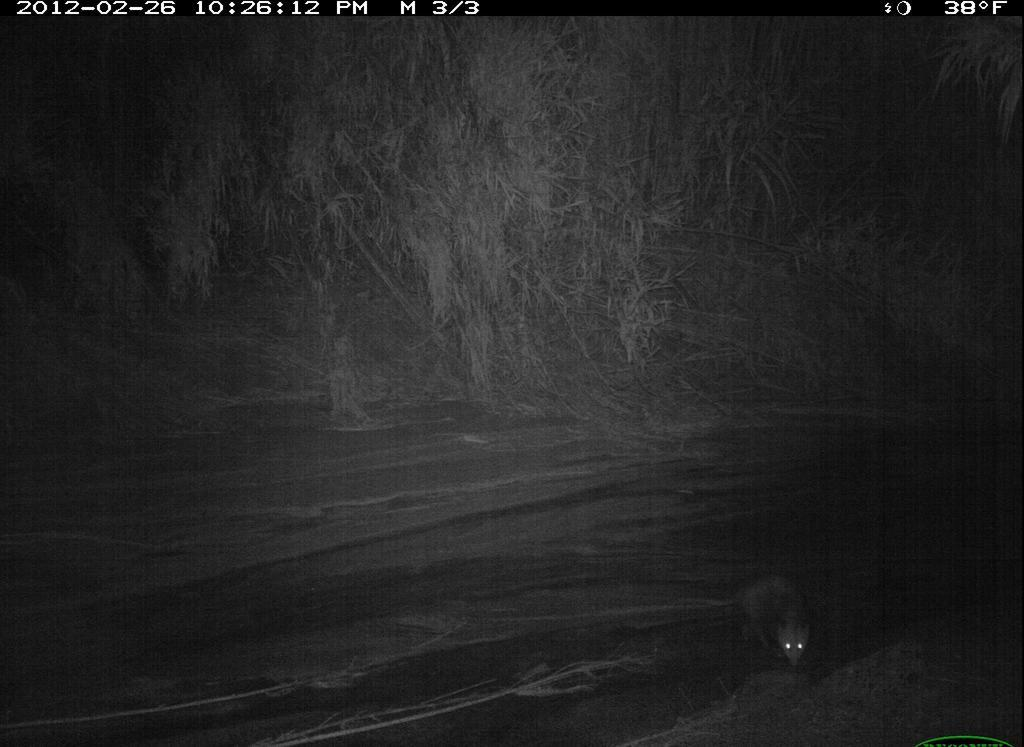opossum: (703, 562, 821, 680)
